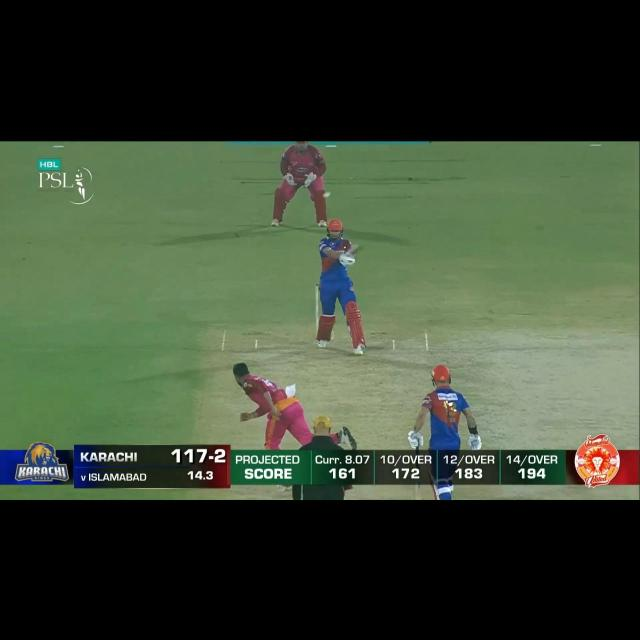bat: (346, 241, 365, 261), (413, 480, 424, 500)
